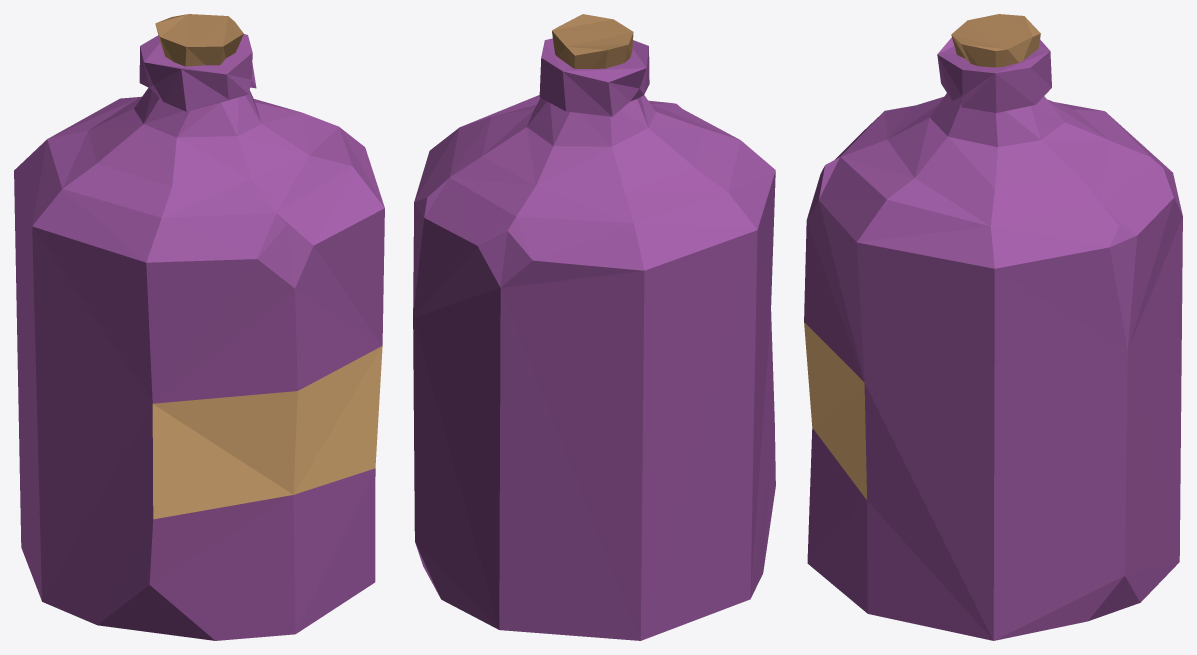
Rendered from AWS_Potion_Purple_007.fbx.
The picture shows the model from 3 angles, left to right: view 1: azimuth 30°, elevation 25°; view 2: azimuth 150°, elevation 25°; view 3: azimuth 270°, elevation 25°; orthographic projection.
Parts seen in each view (by area): view 1: AWS_Potion_Purple_007; view 2: AWS_Potion_Purple_007; view 3: AWS_Potion_Purple_007.
Boxes of the visible parts, left/top/right/bottom form: AWS_Potion_Purple_007: left=14, top=14, right=384, bottom=640; AWS_Potion_Purple_007: left=413, top=14, right=775, bottom=640; AWS_Potion_Purple_007: left=804, top=14, right=1182, bottom=640.
Bounding box in the file's own units: 9.84 × 15.31 × 9.82.
